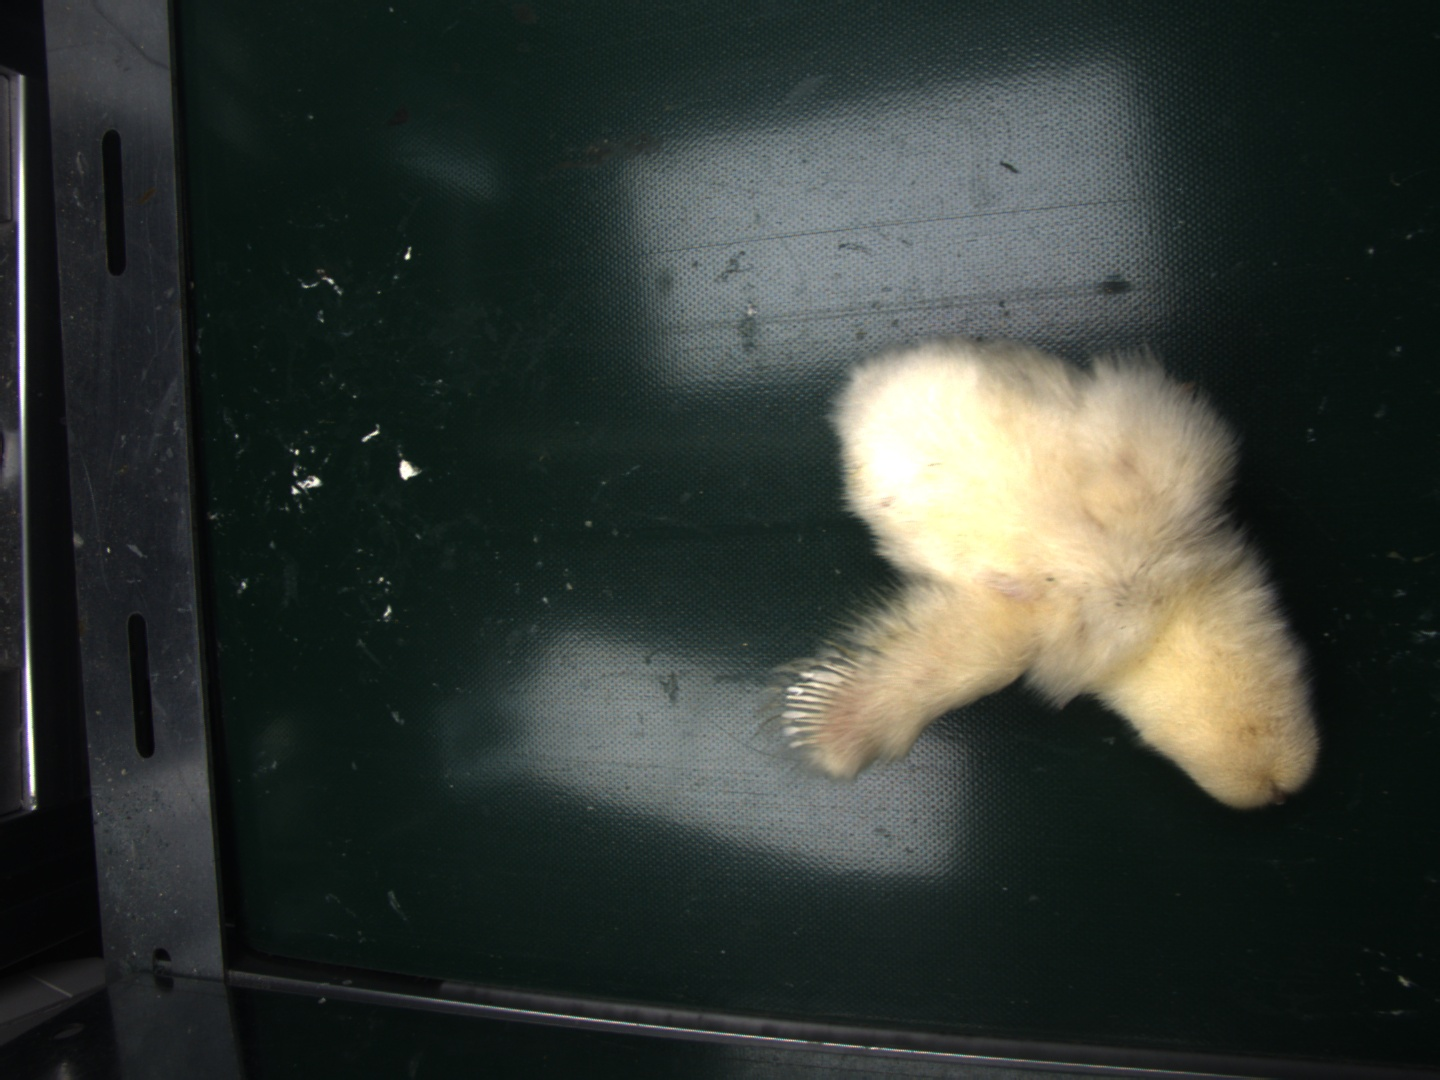male: (778, 658, 845, 757)
